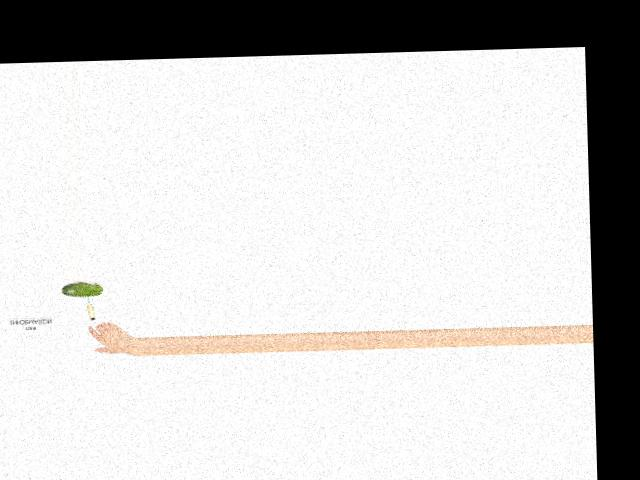cucumber: (61, 282, 104, 297)
